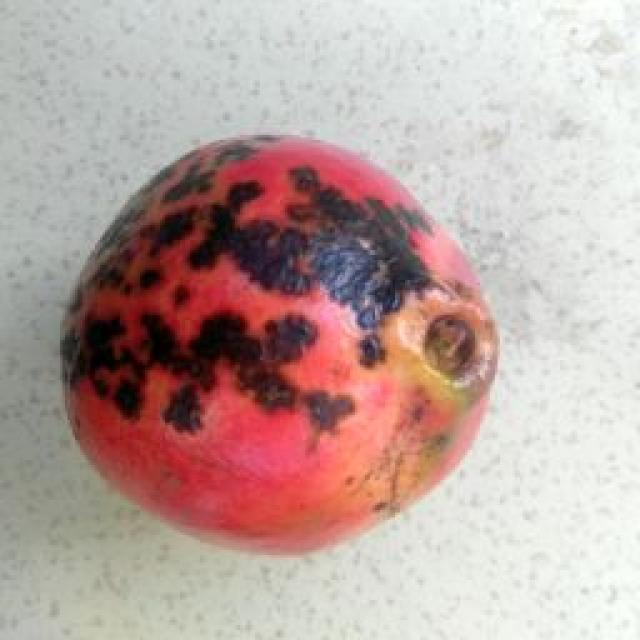overripe: (52, 125, 505, 564)
